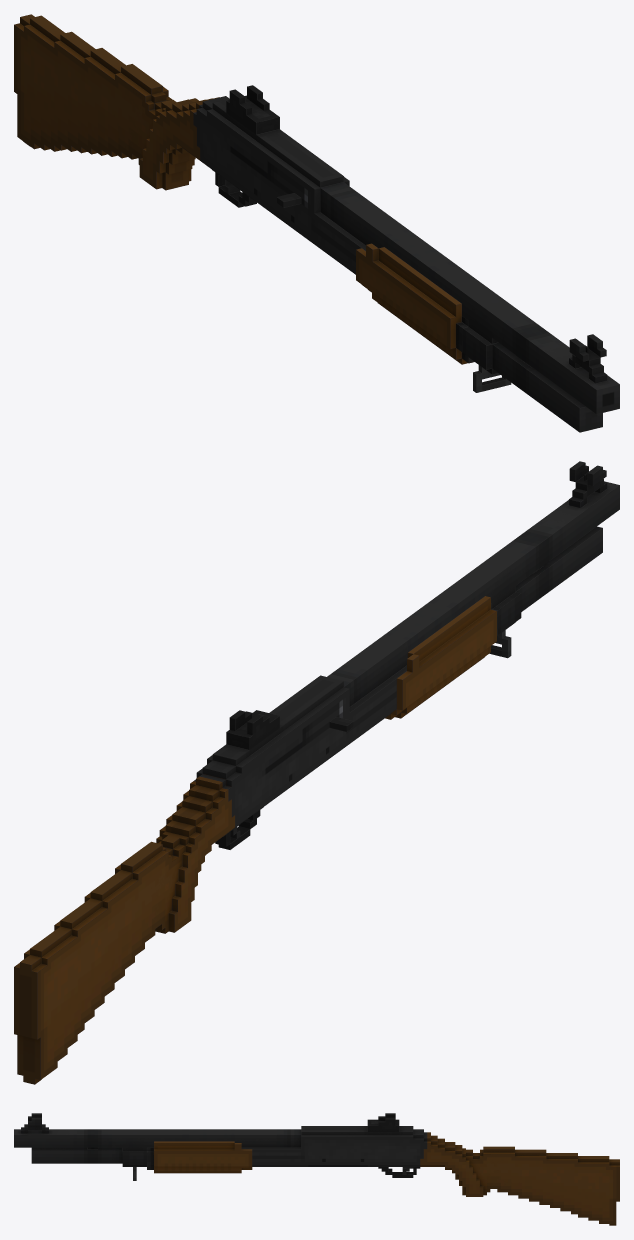
3 views of the same model, one above another, from view 1: azimuth 30°, elevation 25°; view 2: azimuth 150°, elevation 25°; view 3: azimuth 270°, elevation 25° (orthographic). The views are drawn at different scales.
Parts seen in each view (by area): view 1: BENELLI_M3_BODY, BENELLI_M3_FOREND; view 2: BENELLI_M3_BODY, BENELLI_M3_FOREND; view 3: BENELLI_M3_BODY, BENELLI_M3_FOREND.
Part boxes in pixels (box(x1,y1,x2,y2)): BENELLI_M3_BODY: box(14, 14, 619, 432); BENELLI_M3_FOREND: box(277, 193, 474, 364); BENELLI_M3_BODY: box(14, 461, 619, 1084); BENELLI_M3_FOREND: box(329, 596, 497, 731); BENELLI_M3_BODY: box(14, 1113, 619, 1225); BENELLI_M3_FOREND: box(147, 1141, 252, 1173).
Size of the model in its own units: 0.0985 by 0.3346 by 1.7.
1 material, 1 textured.
